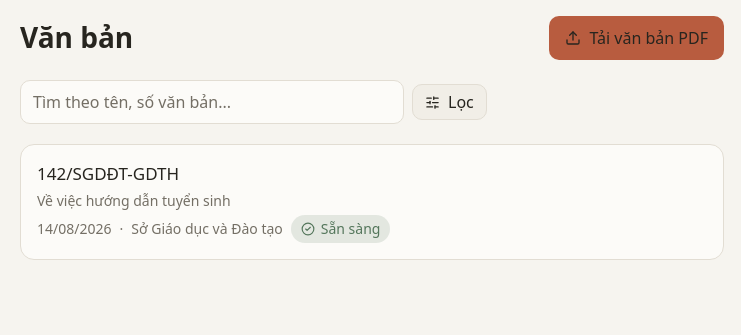
Scenario: ArchivePage (API integration) › shows the no-match state and clears filters
This screenshot has width=741, height=335.
In the search field labelled "Tìm theo tên, số văn bản": (212, 102) [20,80,404,124], type "không có"
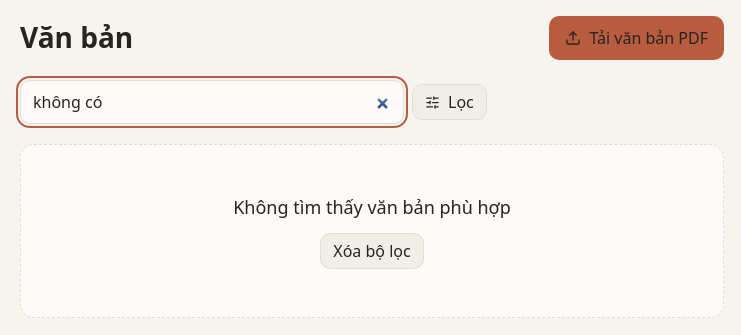
Result: the text "Không tìm thấy văn bản phù hợp" is shown at [233,193,511,221]
Click the button "Xóa bộ lọc": (372, 251) [320,233,424,269]
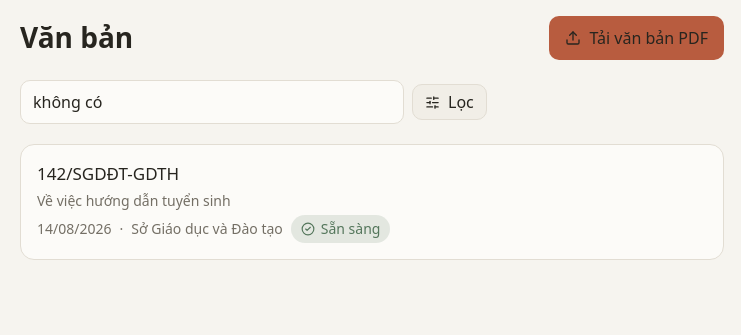
Result: the text "142/SGDĐT-GDTH" is shown at [37,162,179,185]
